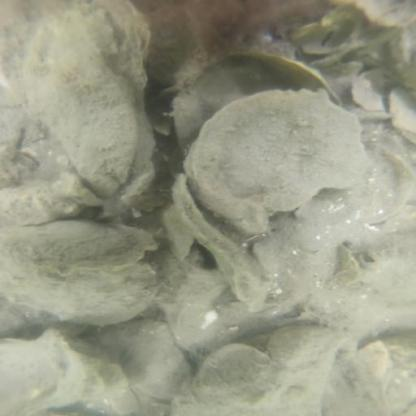3: (237, 44, 339, 101)
Oyster-Closed: (22, 8, 138, 192), (171, 173, 275, 307), (1, 248, 161, 324), (172, 356, 336, 416), (4, 219, 158, 274)
Oyster-Open: (184, 90, 368, 234), (96, 320, 192, 401), (324, 337, 414, 416), (196, 343, 273, 394), (0, 182, 85, 226), (269, 325, 340, 366)
